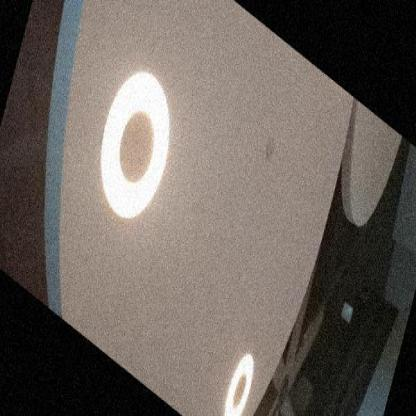light_on: (70, 25, 194, 273), (209, 320, 270, 415)
